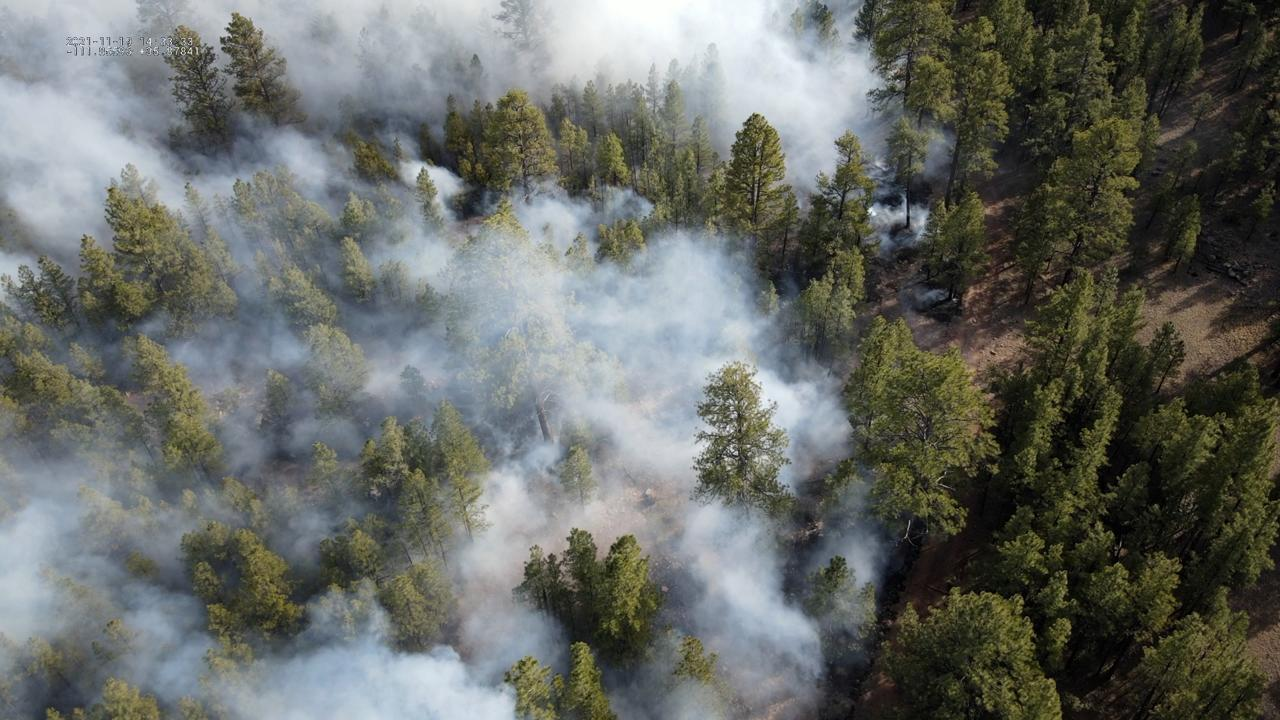smoke: (0, 0, 959, 720)
